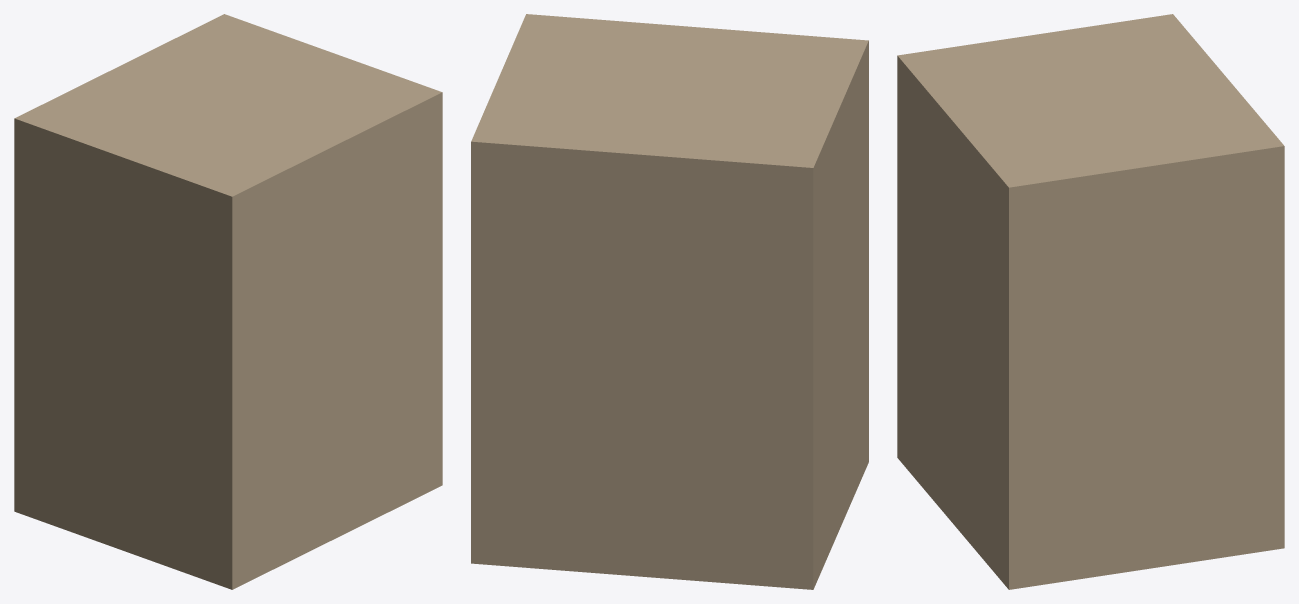
File: bld_108161991.dae
3 renders of one model, left to right at view 1: azimuth 30°, elevation 25°; view 2: azimuth 150°, elevation 25°; view 3: azimuth 270°, elevation 25°, orthographic. The views are drawn at different scales.
Visible parts, largest first — view 1: bld_108161991; view 2: bld_108161991; view 3: bld_108161991.
Part boxes in pixels (x1,y1,x2,y2): bld_108161991: [14, 14, 442, 589]; bld_108161991: [471, 14, 868, 589]; bld_108161991: [897, 14, 1284, 589].
Bounding box in the file's own units: 7.41 × 6.98 × 8.
